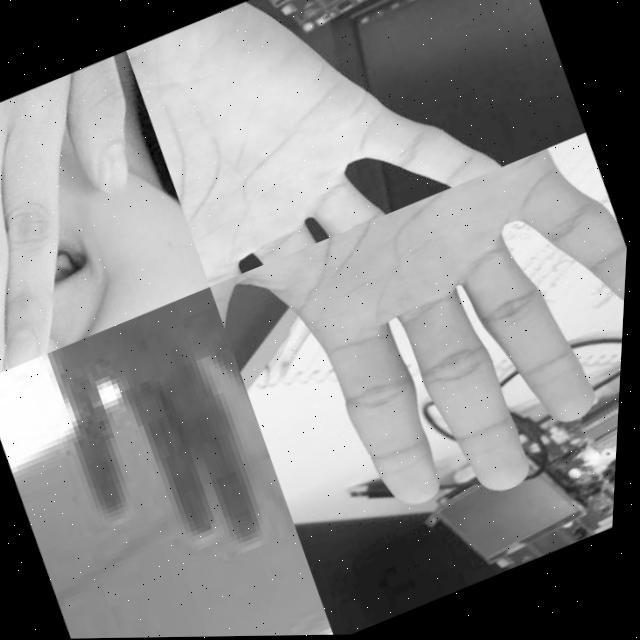no-gloves: (200, 134, 634, 576), (117, 0, 526, 287), (31, 286, 312, 603), (0, 49, 221, 380)
